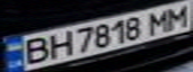1: (109, 17, 130, 44)
7: (69, 25, 97, 54)
8: (90, 20, 115, 50), (124, 14, 148, 40)
B: (15, 35, 54, 66)
H: (42, 29, 75, 60)
M: (142, 7, 175, 35), (160, 2, 193, 30)
